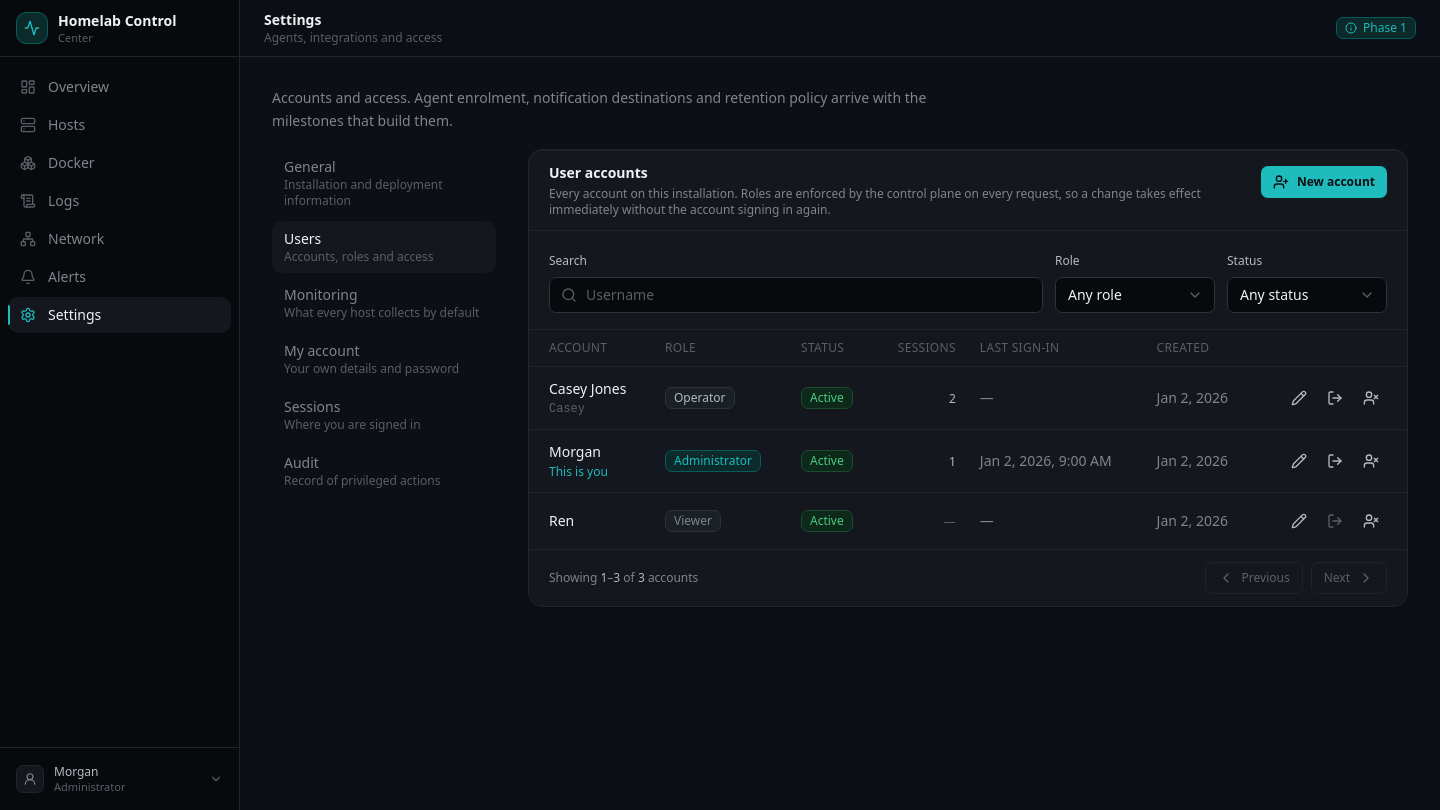
creating an account › creates an account and shows it in the list
This screenshot has width=1440, height=810.
Expected: the table named "user accounts" is shown, [529,328,1407,548]
Click the button "New account" at point(1324, 182), box [1261,166,1387,198]
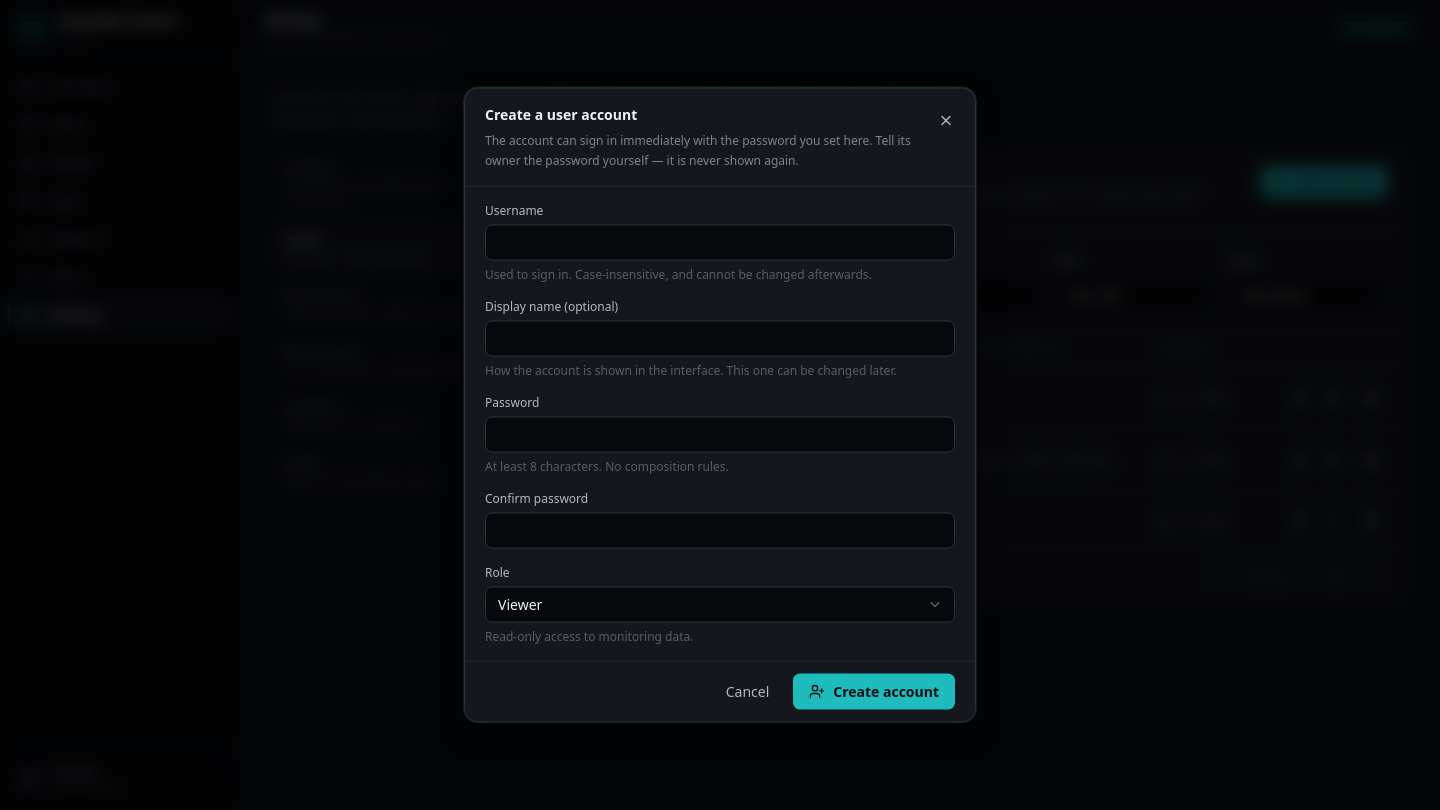
Now the dialog "Create a user account" is shown, box [464,88,976,722]
Type "newcomer" into the field labelled "Username" at point(720, 242), box [485,224,955,260]
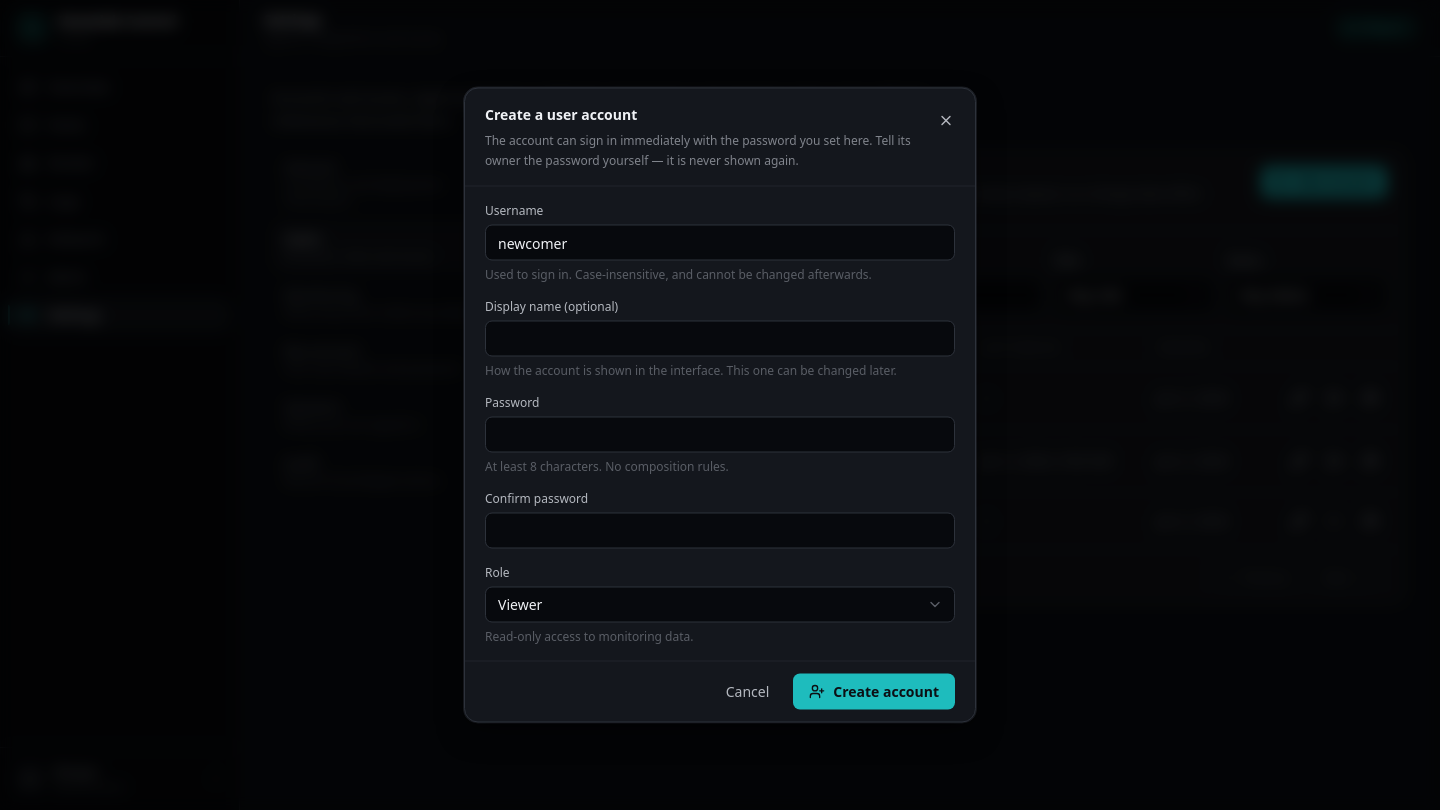
Type "New Comer" into the field labelled "Display name (optional)" at point(720, 338), box [485,320,955,356]
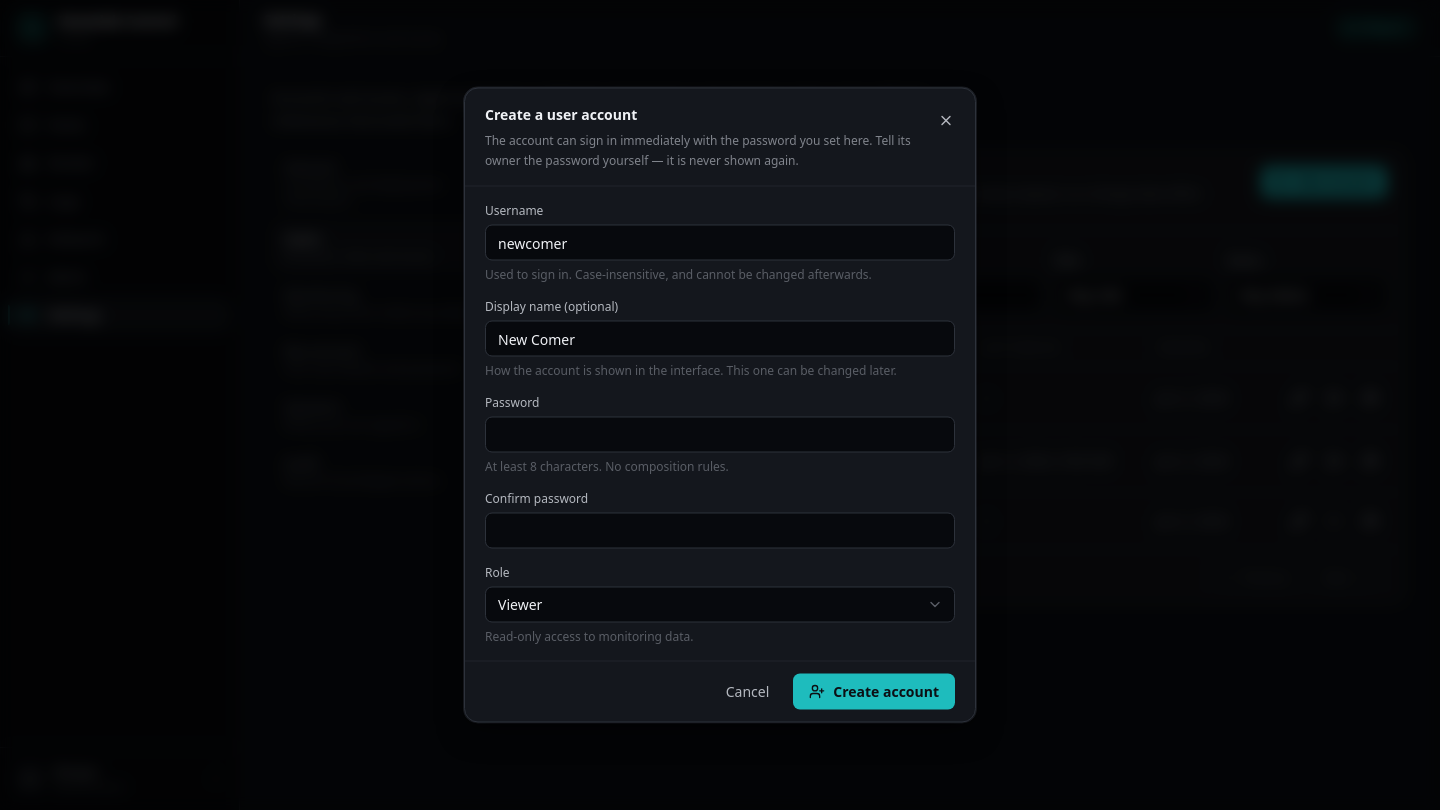
Type "a long enough password" into the password field labelled "Password" at point(720, 434), box [485,416,955,452]
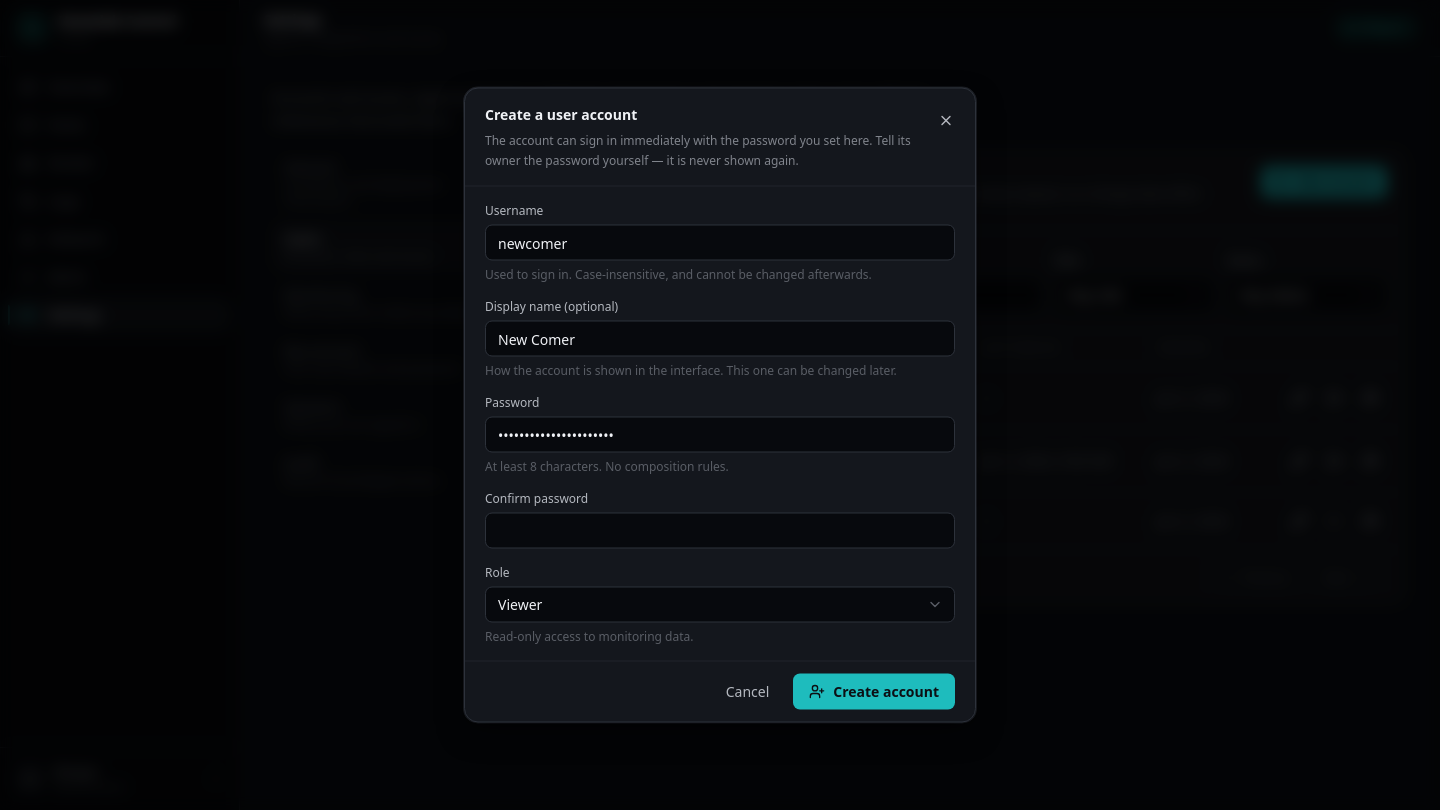
Type "a long enough password" into the password field labelled "Confirm password" at point(720, 530), box [485,512,955,548]
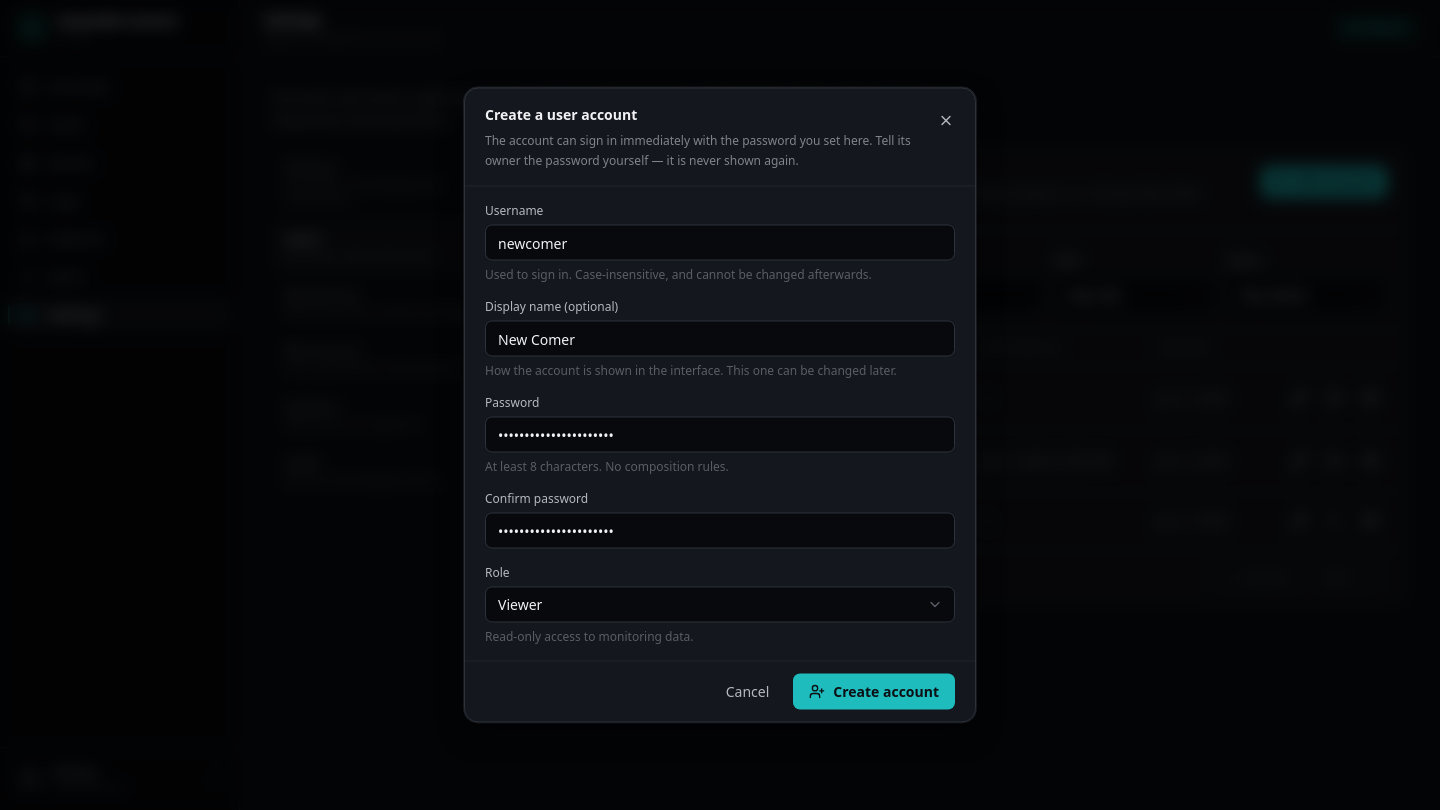
Click the button "Create account" at point(874, 692), box [793,674,955,710]
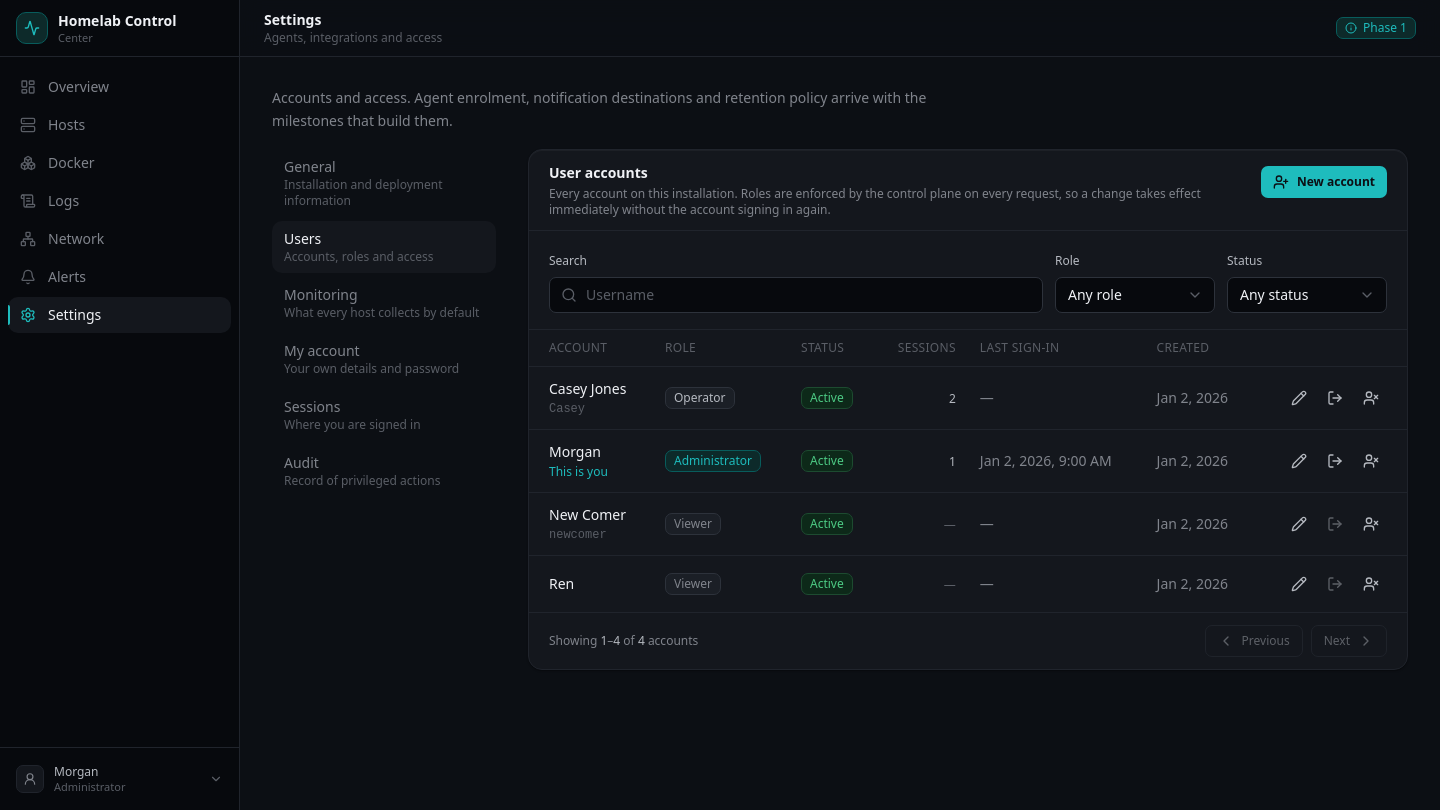
Now the text "New Comer" is shown, box [549,504,626,524]
Now the dialog is gone
